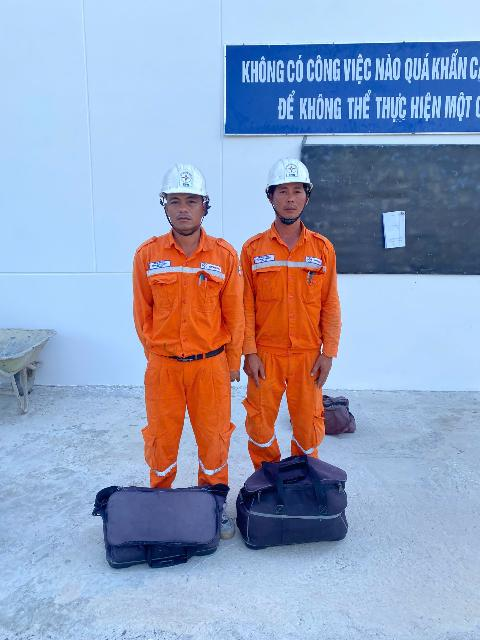harness: (140, 329, 233, 369)
helmet: (158, 160, 211, 208), (265, 157, 313, 200)
shoes: (195, 482, 242, 547)
